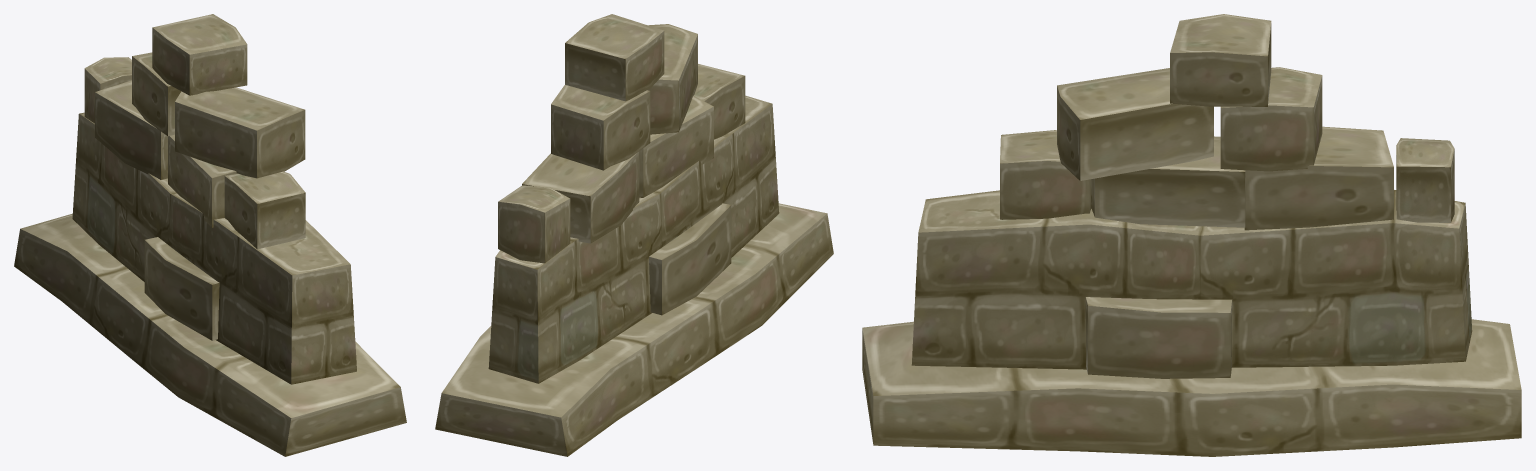
Rendered from wallStoneD.fbx.
The picture shows the model from 3 angles, left to right: view 1: azimuth 30°, elevation 25°; view 2: azimuth 150°, elevation 25°; view 3: azimuth 270°, elevation 25°; orthographic projection. The views are drawn at different scales.
Parts seen in each view (by area): view 1: wall_stoneD; view 2: wall_stoneD; view 3: wall_stoneD.
Boxes of the visible parts, x1=… form: wall_stoneD: x1=14, y1=14, x2=406, y2=456; wall_stoneD: x1=435, y1=14, x2=833, y2=456; wall_stoneD: x1=862, y1=14, x2=1521, y2=456.
Bounding box in the file's own units: 147 × 259 × 415.
